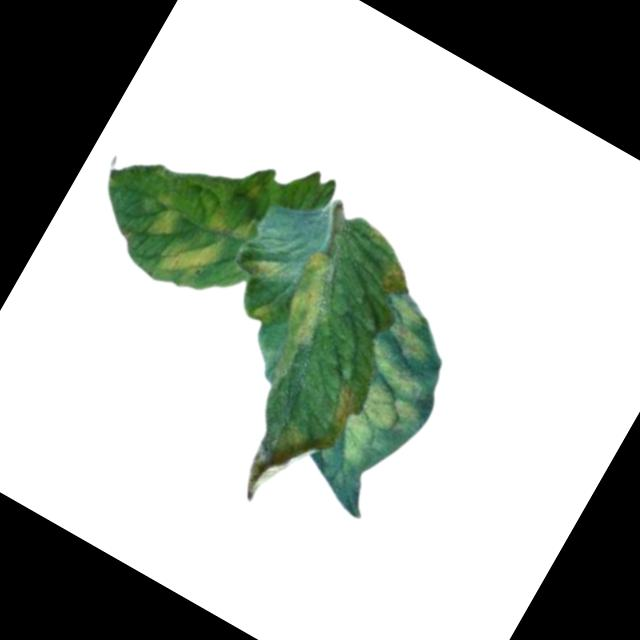Leaf_Mold: (306, 288, 466, 484), (263, 246, 351, 353), (152, 215, 228, 293), (306, 381, 361, 455), (135, 188, 188, 245), (202, 199, 256, 248), (241, 247, 280, 287)
